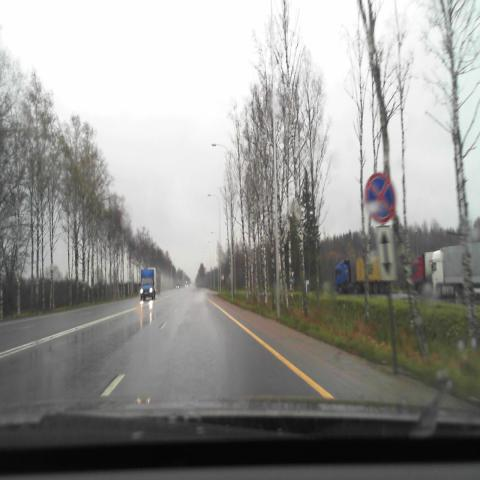8_2_4: (376, 227, 396, 281)
